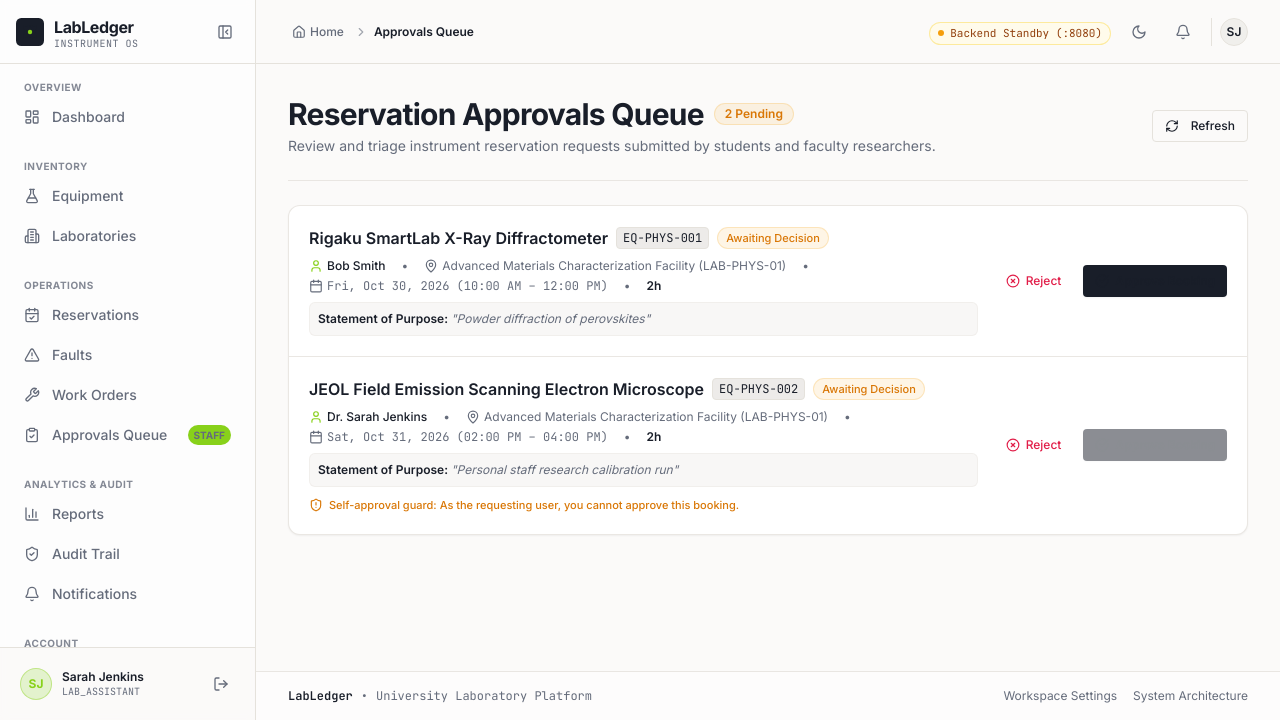
Scenario: ApprovalsQueuePage › opens reject modal when staff clicks Reject button
Click the button "Reject" in the row of "10:00 AM – 12:00 PM".
click(1034, 281)  # box [994,265,1074,297]
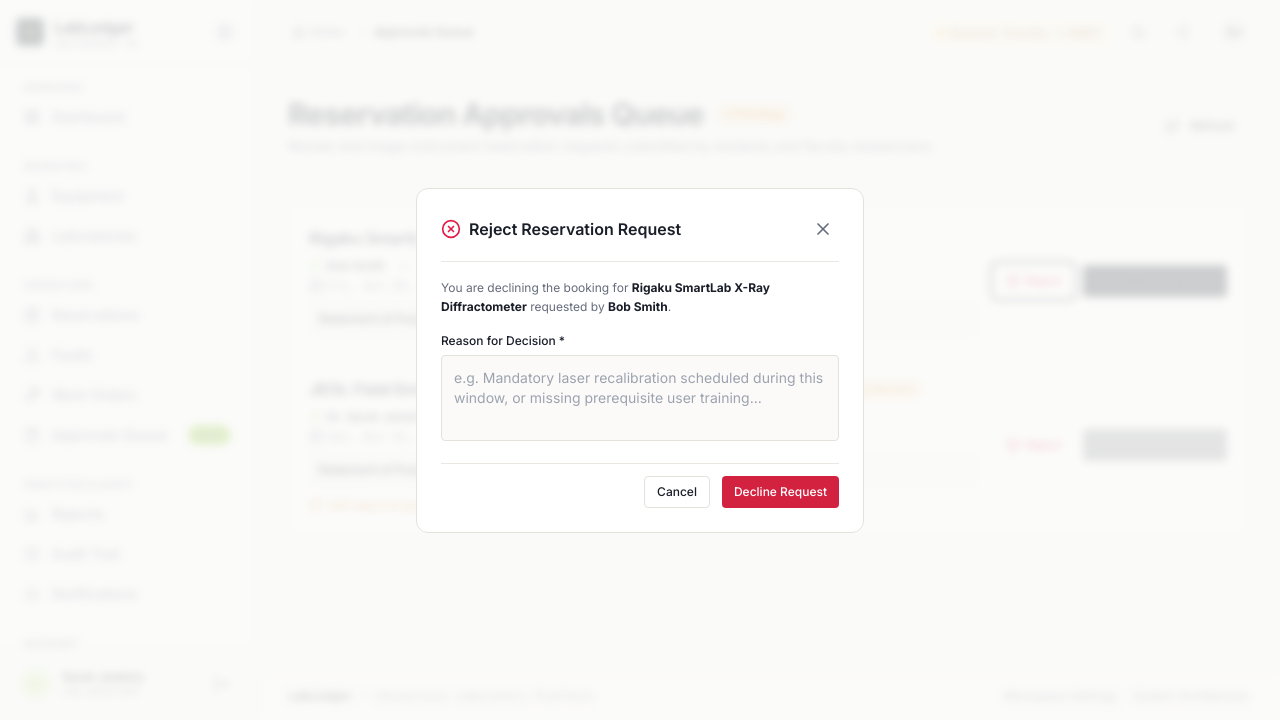
expect the heading "Reject Reservation Request" is shown: met, box [469,216,681,240]
expect the text box with placeholder "Mandatory laser recalibration scheduled" is shown: met, box [441,354,839,440]
